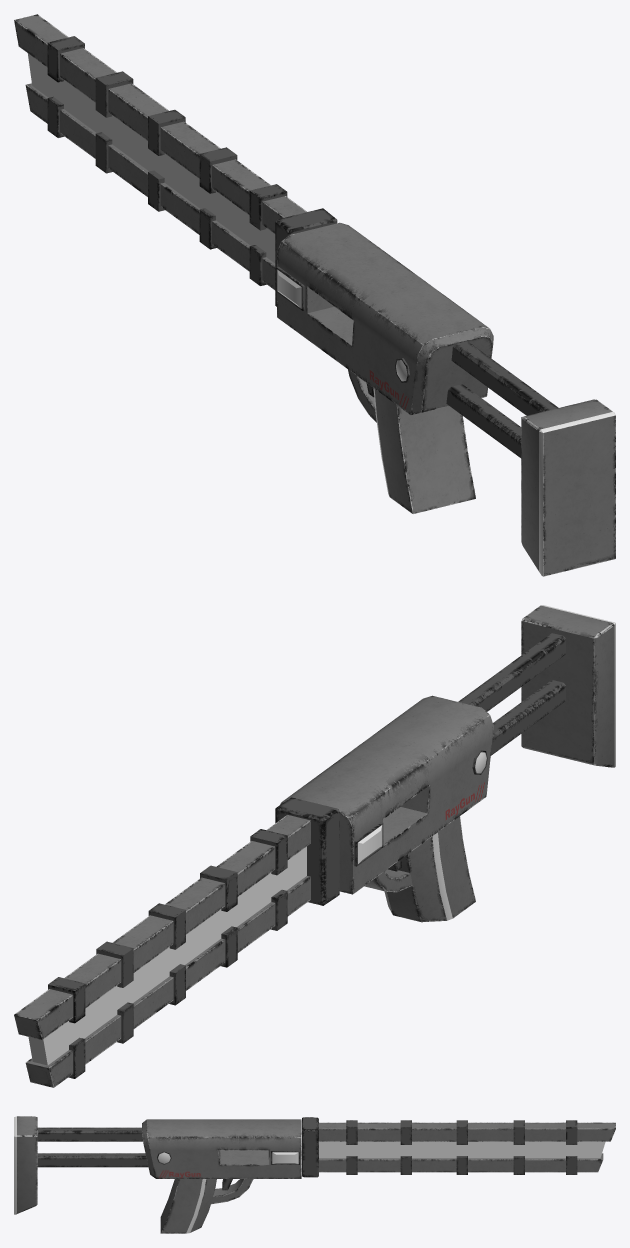
File: Gun.fbx
3 views of the same model, one above another, from view 1: azimuth 30°, elevation 25°; view 2: azimuth 150°, elevation 25°; view 3: azimuth 270°, elevation 25° (orthographic). The views are drawn at different scales.
Parts seen in each view (by area): view 1: Gun; view 2: Gun; view 3: Gun.
Part boxes in pixels (x1,y1,x2,y2): Gun: (14, 14, 615, 576); Gun: (14, 605, 615, 1087); Gun: (14, 1116, 615, 1233).
Size of the model in its own units: 29.26 by 61.59 by 331.
